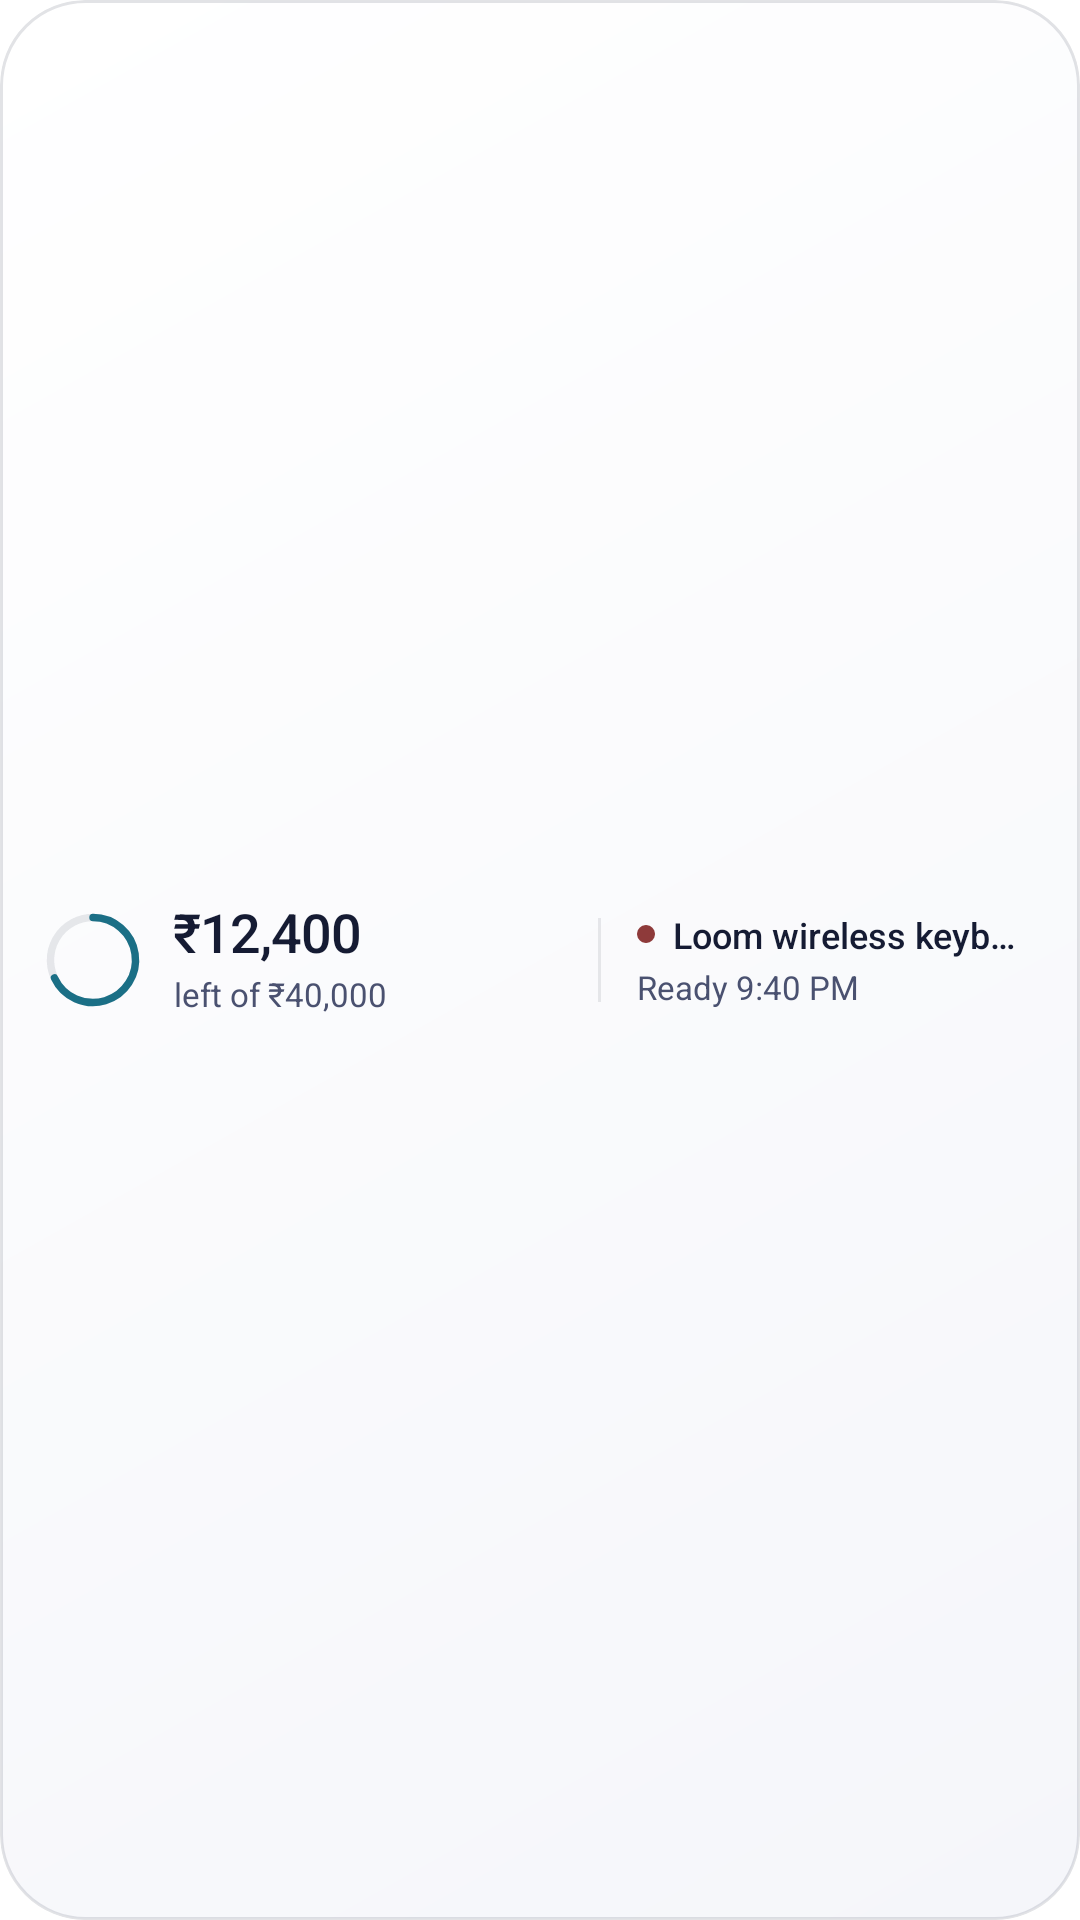

Named icons in this screenshot (1080px×1920px) and their centers, point (x, y):
widget ring: point (95, 960)
